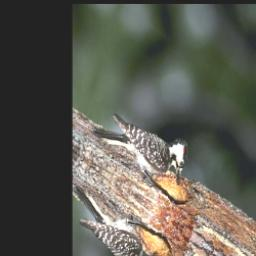Woodpecker: (88, 82, 194, 206)
